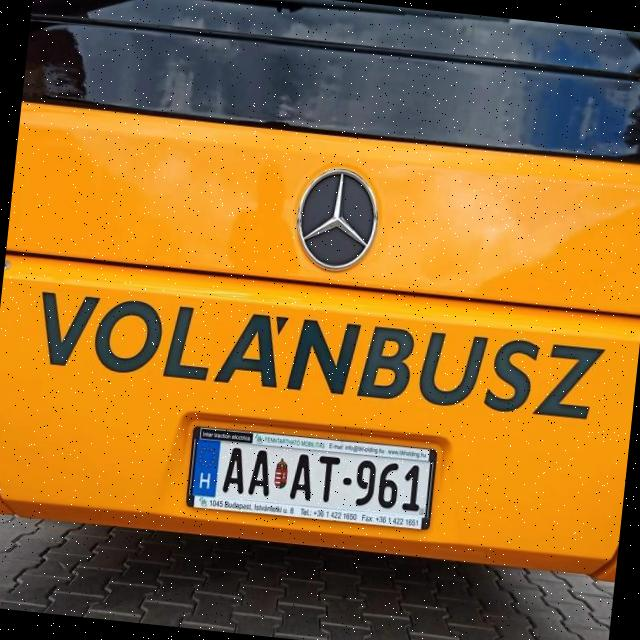licence: (182, 422, 440, 537)
